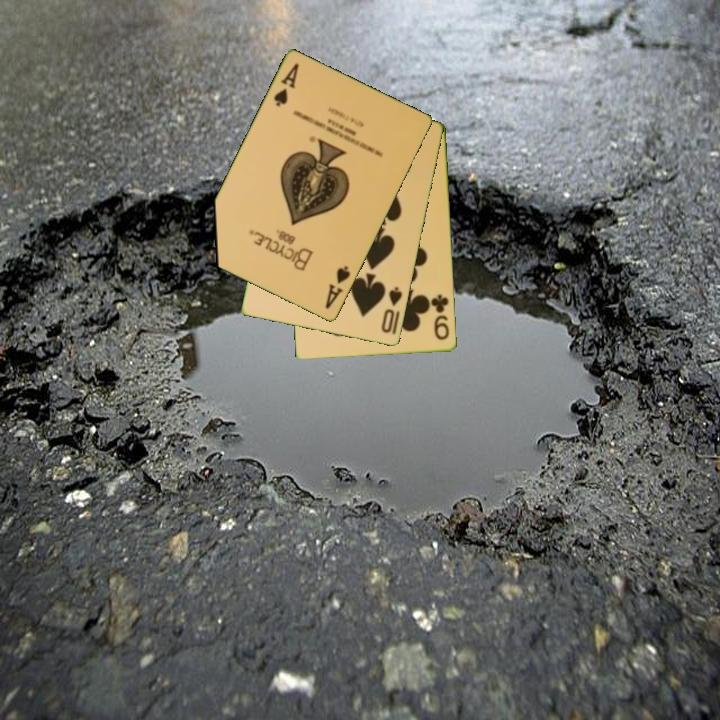10s: (378, 283, 405, 336)
9c: (428, 291, 452, 343)
As: (270, 60, 302, 110), (322, 262, 353, 312)
